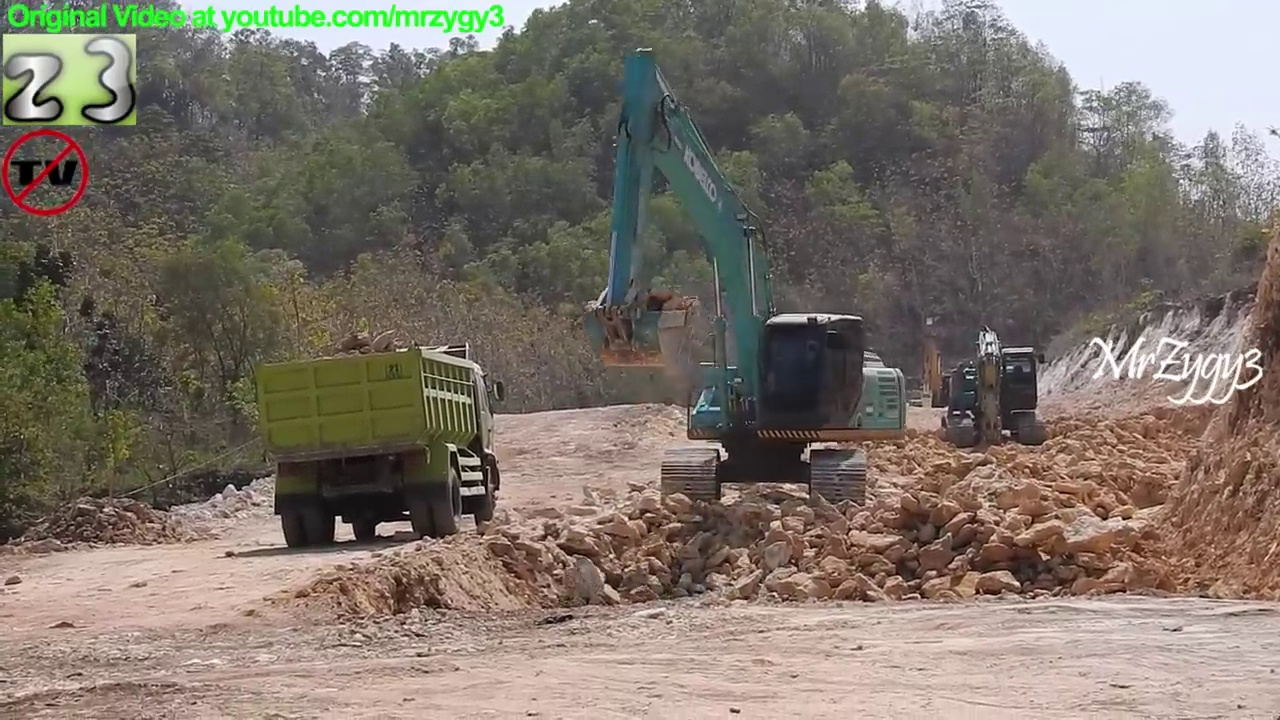excavator: (575, 43, 913, 513), (898, 309, 967, 414)
excavator breaker: (934, 324, 1054, 461)
truck: (253, 340, 512, 552)
